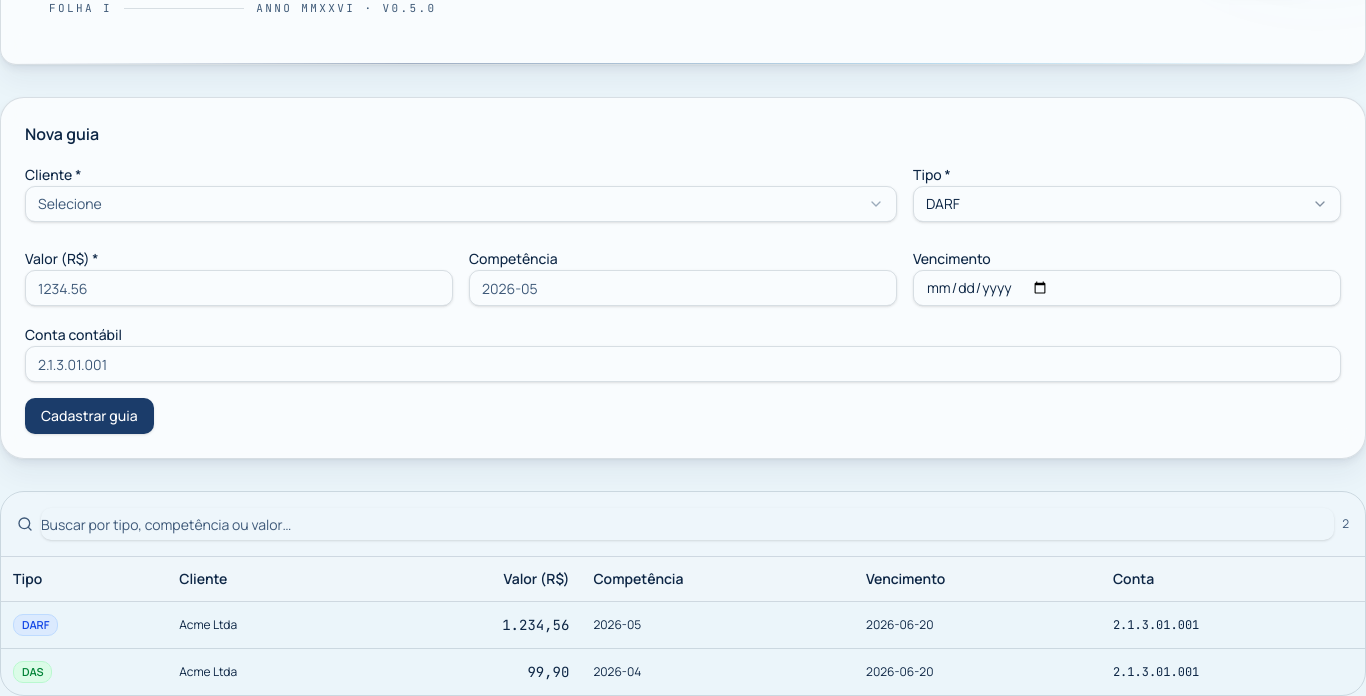
GuiasPage › filtra a lista pela busca (tipo/competencia/valor)
(page scrolled)
Expected: the text "2026-05" is shown, [581,602,854,649]
Expected: the text "2026-04" is shown, [581,649,854,695]
Type "2026-05" into the field with placeholder "Buscar por tipo, competência ou valor…". click: (688, 524)
box: [41,508,1334,540]
(page scrolled)
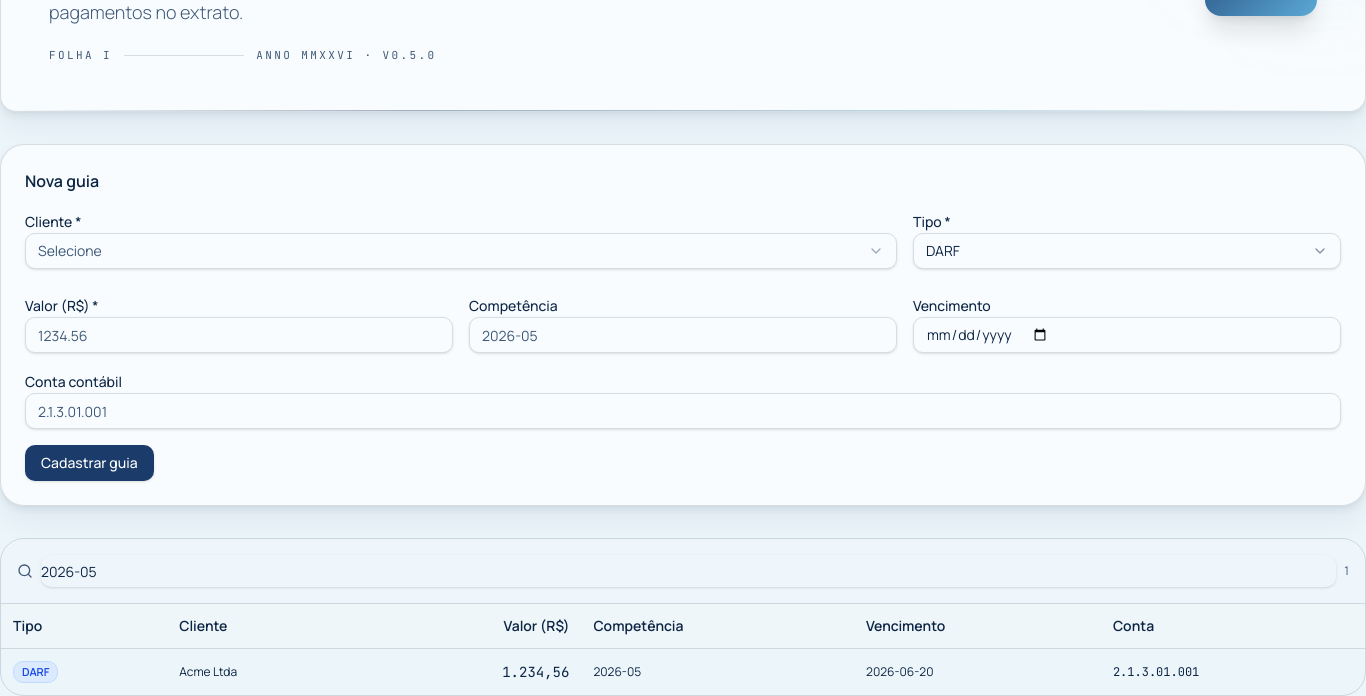
Expected: the text "2026-05" is shown, [581,649,854,695]
Now the text "2026-04" is gone
